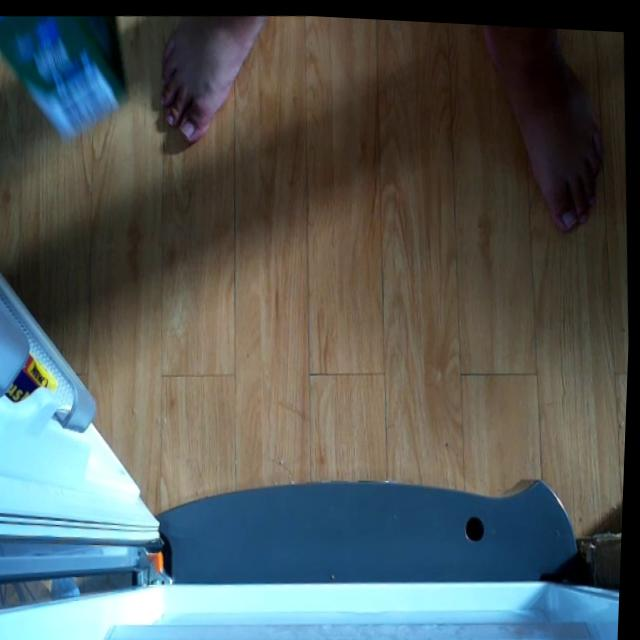milk: (0, 10, 135, 146)
